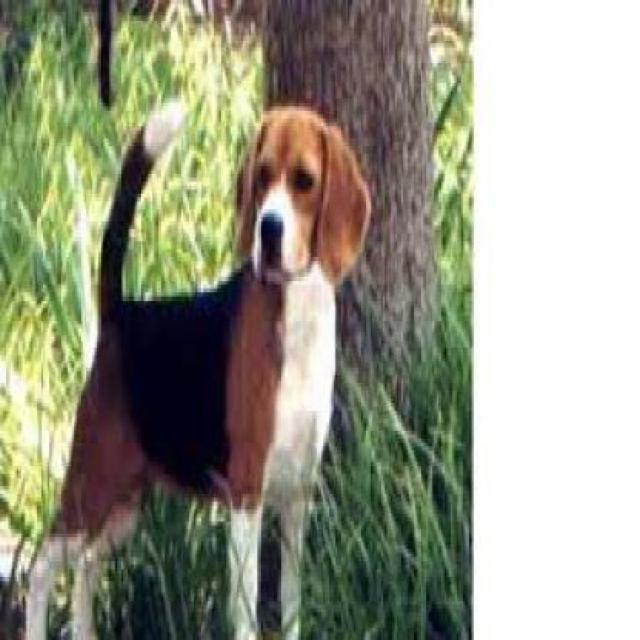Dog: (23, 87, 375, 638)
